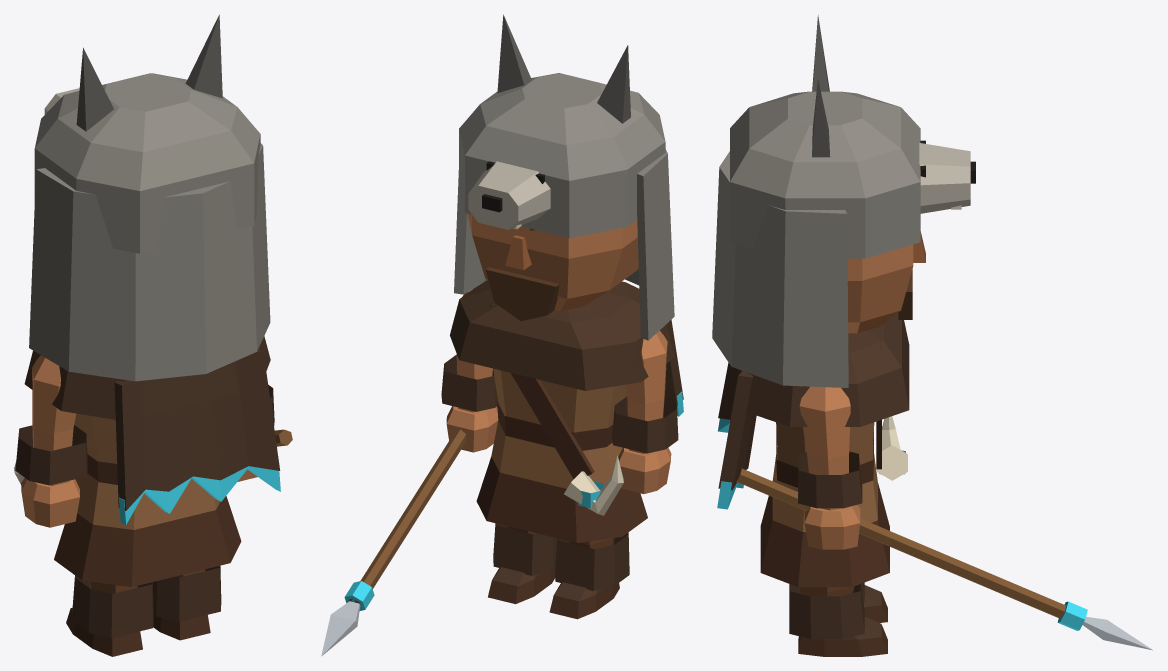
Rendered from CH_Beastmaster.fbx.
3 renders of one model, left to right at view 1: azimuth 30°, elevation 25°; view 2: azimuth 150°, elevation 25°; view 3: azimuth 270°, elevation 25°, orthographic. The views are drawn at different scales.
Visible parts, largest first — view 1: Head, Body, ArmL, LegL, LegR, ArmR; view 2: Head, Body, ArmR, ArmL, LegL, LegR; view 3: Head, Body, ArmR, LegR, LegL.
Part boxes in pixels (x1,y1,x2,y2): Head: (29, 14, 270, 381); Body: (14, 336, 280, 587); ArmL: (15, 355, 87, 527); LegL: (66, 575, 153, 656); LegR: (153, 566, 221, 640); ArmR: (237, 385, 292, 481); Head: (454, 14, 674, 340); Body: (450, 280, 683, 542); ArmR: (321, 289, 498, 656); ArmL: (612, 330, 678, 493); LegL: (549, 532, 629, 619); LegR: (488, 523, 557, 604); Head: (712, 15, 975, 387); Body: (717, 313, 909, 587); ArmR: (735, 386, 1152, 650); LegR: (789, 584, 887, 656); LegL: (789, 582, 887, 622).
Bounding box in the file's own units: 0.762 × 1.23 × 1.8.
